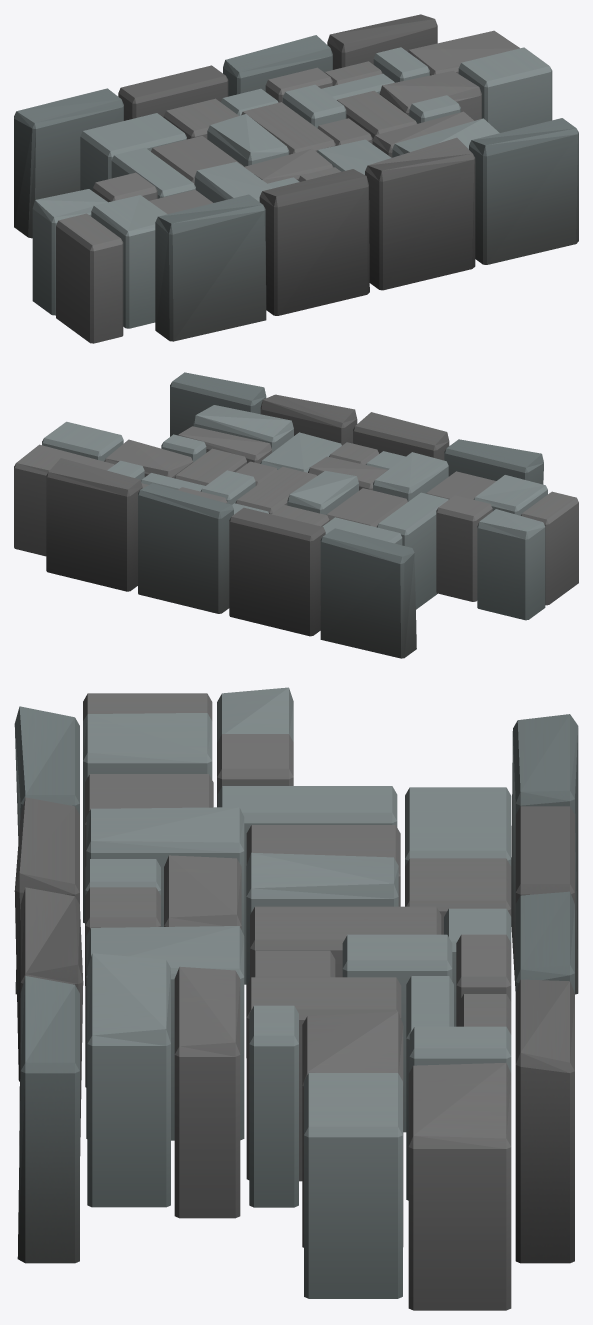
File: ZLP_Road_C_5.FBX
3 renders of one model, top to bottom at view 1: azimuth 30°, elevation 25°; view 2: azimuth 150°, elevation 25°; view 3: azimuth 270°, elevation 25°, orthographic. The views are drawn at different scales.
Visible parts, largest first — view 1: ZLP_Road_C_5; view 2: ZLP_Road_C_5; view 3: ZLP_Road_C_5.
Part boxes in pixels (bbox=[...]): ZLP_Road_C_5: bbox=[14, 14, 578, 343]; ZLP_Road_C_5: bbox=[14, 372, 578, 658]; ZLP_Road_C_5: bbox=[14, 687, 578, 1310].
Bounding box in the file's own units: 420 × 93.21 × 222.
